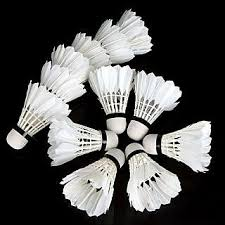shuttle: (1, 78, 53, 169), (60, 152, 122, 219), (143, 120, 213, 155), (92, 64, 128, 130)
